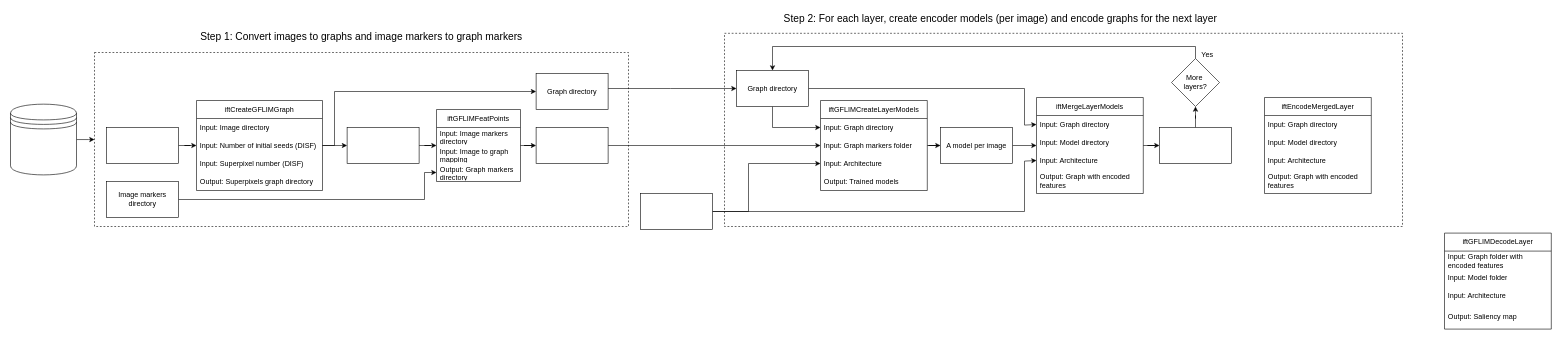
Some shapes in this 1562 by 340 pixel diagram are drawn without their labels. The centre of each missing label's shape, as x and y in pixels:
Architecture: the point at 676,211
Graph markers directory: the point at 572,145
Image to graph mapping: the point at 382,145
Images directory: the point at 142,145
Images, Markers: the point at 43,139
Merged model: the point at 1195,145
